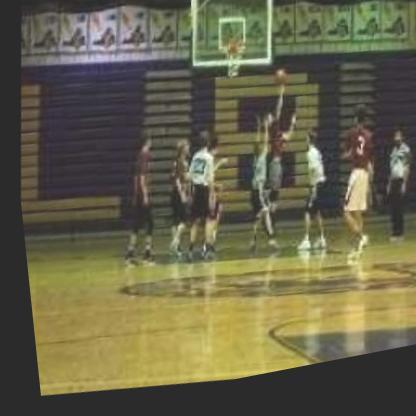basketball: (267, 74, 285, 99)
